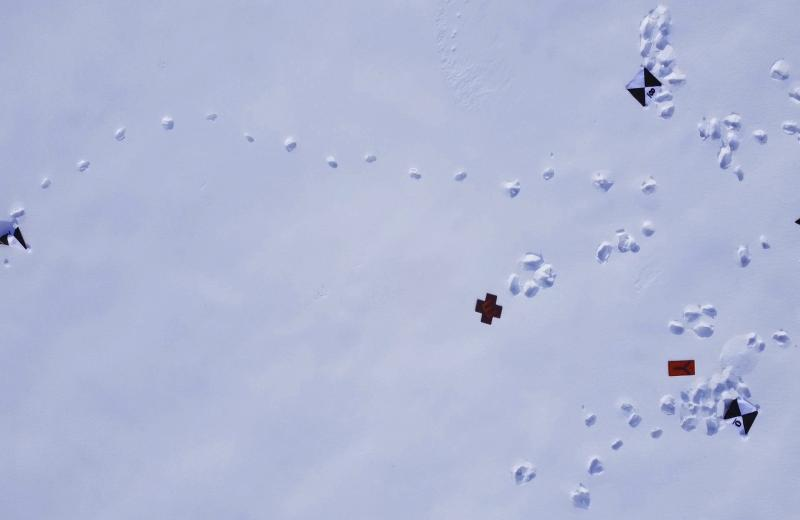Cross: (472, 289, 504, 329)
Rectangle: (666, 351, 697, 385)
